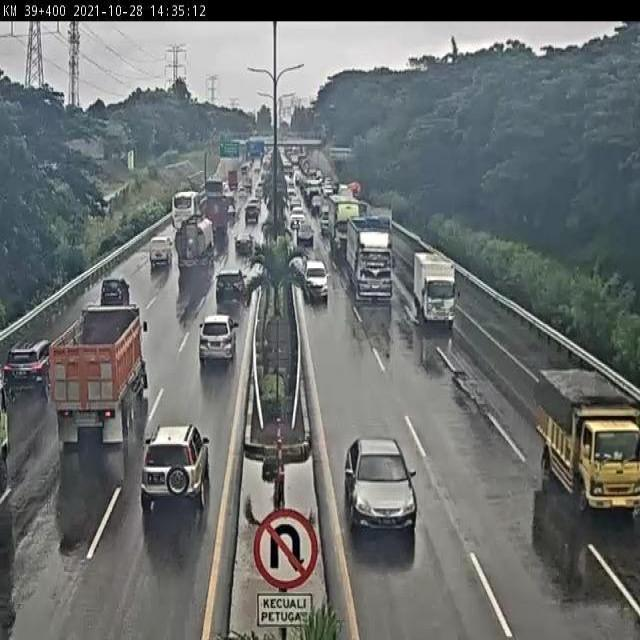big truck: (48, 302, 152, 454), (346, 216, 394, 303), (327, 192, 362, 256)
car: (137, 420, 217, 521), (345, 436, 417, 536), (1, 336, 56, 408), (196, 313, 241, 368), (303, 255, 332, 305), (215, 268, 249, 307), (100, 277, 133, 308), (146, 234, 174, 270), (233, 231, 256, 257), (295, 218, 316, 246), (319, 203, 331, 236), (243, 205, 260, 227), (290, 206, 305, 230), (309, 193, 324, 215), (247, 198, 263, 214), (237, 188, 248, 200)
small bus: (171, 190, 203, 230)
small truck: (533, 365, 640, 515), (410, 248, 460, 329), (174, 215, 217, 277)
